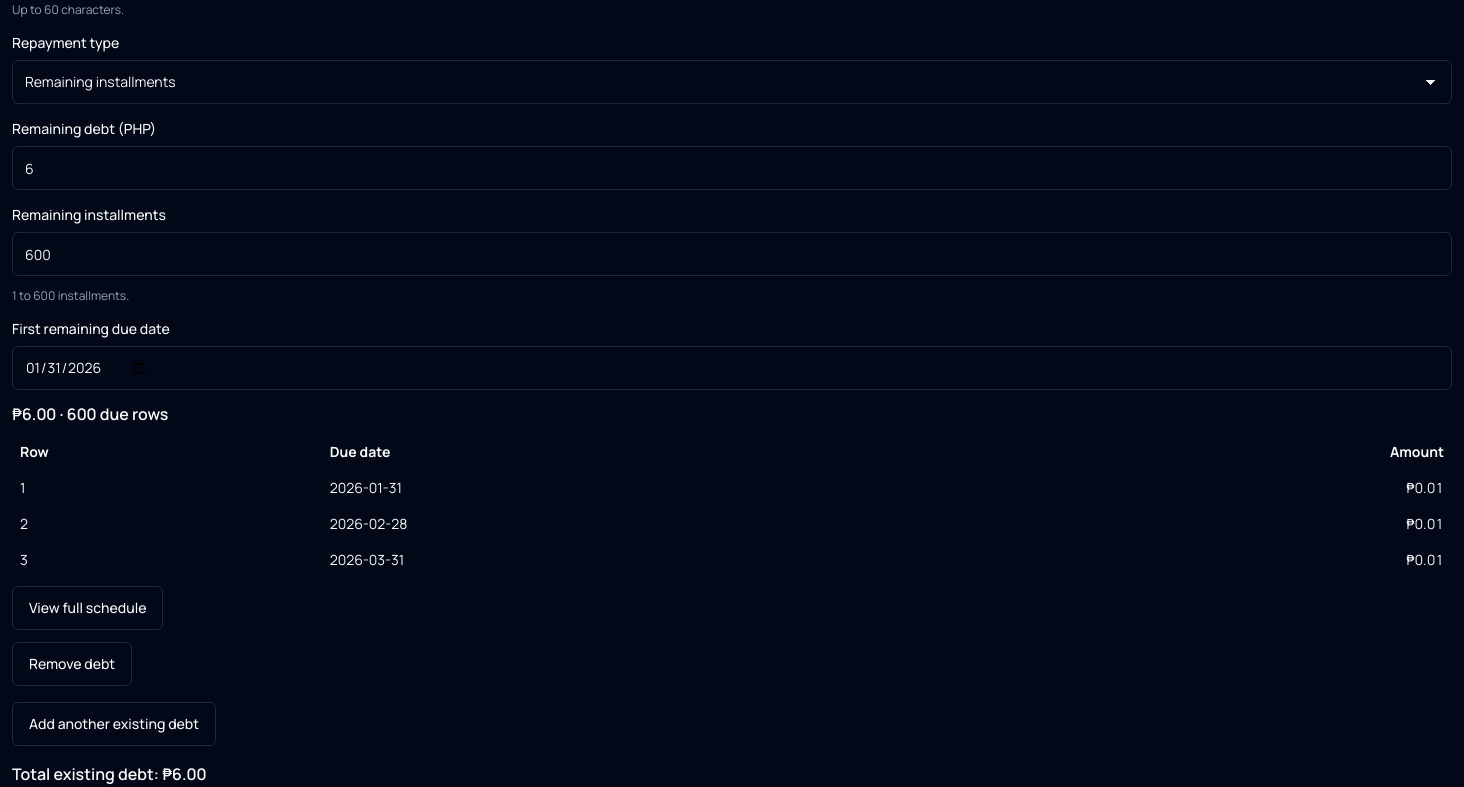
Test: shared existing debt fields › renders only three rows until full 600-row schedule is requested
(page scrolled)
Expected: the number of rows is 4, [12,434,1452,470]; [12,470,1452,506]; [12,506,1452,542]; [12,542,1452,578]
Step 1. Click the button "View full schedule" → (88, 608), box [12,586,164,630]
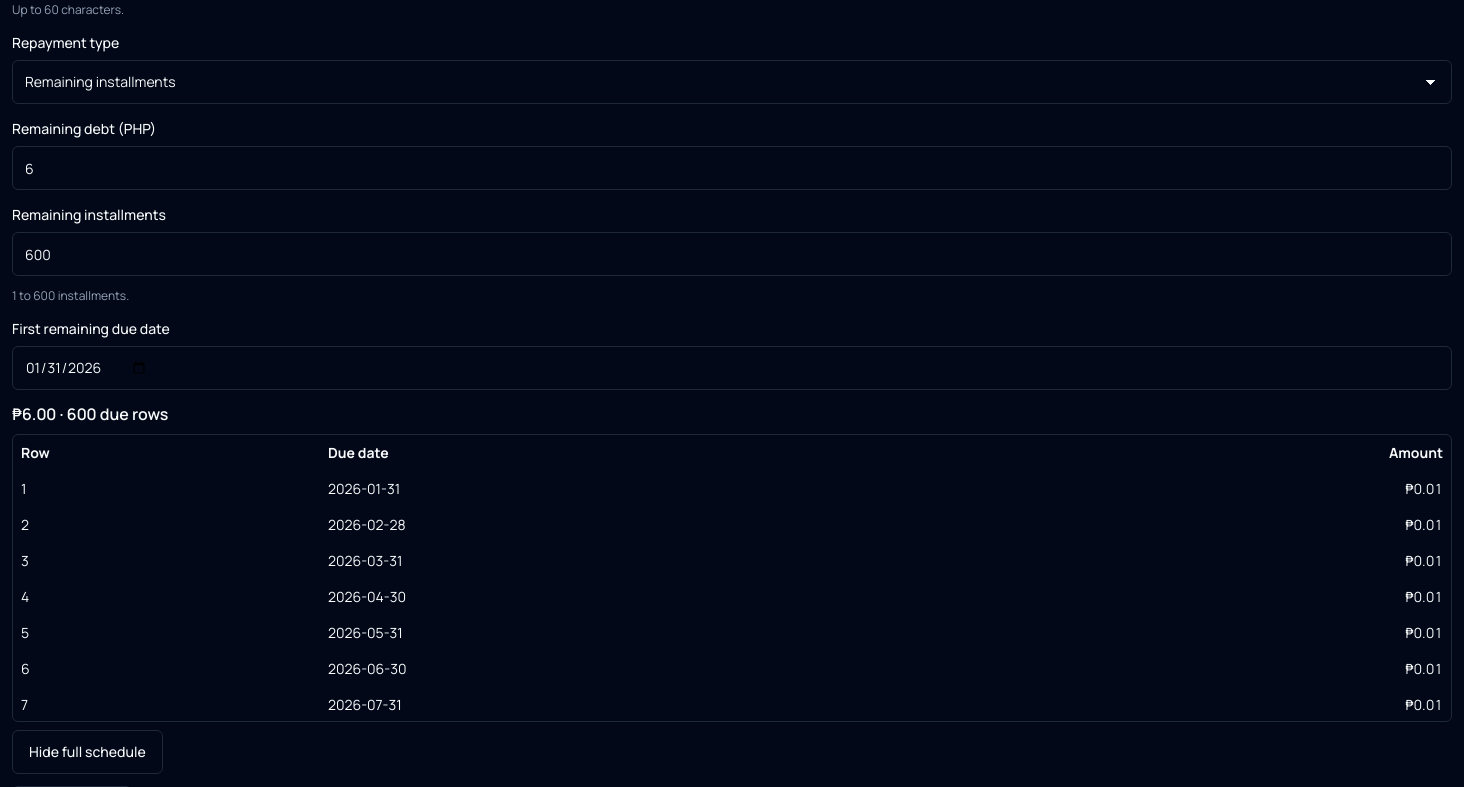
Step 2. Click the button "Hide full schedule" → (87, 752), box [12,730,163,774]
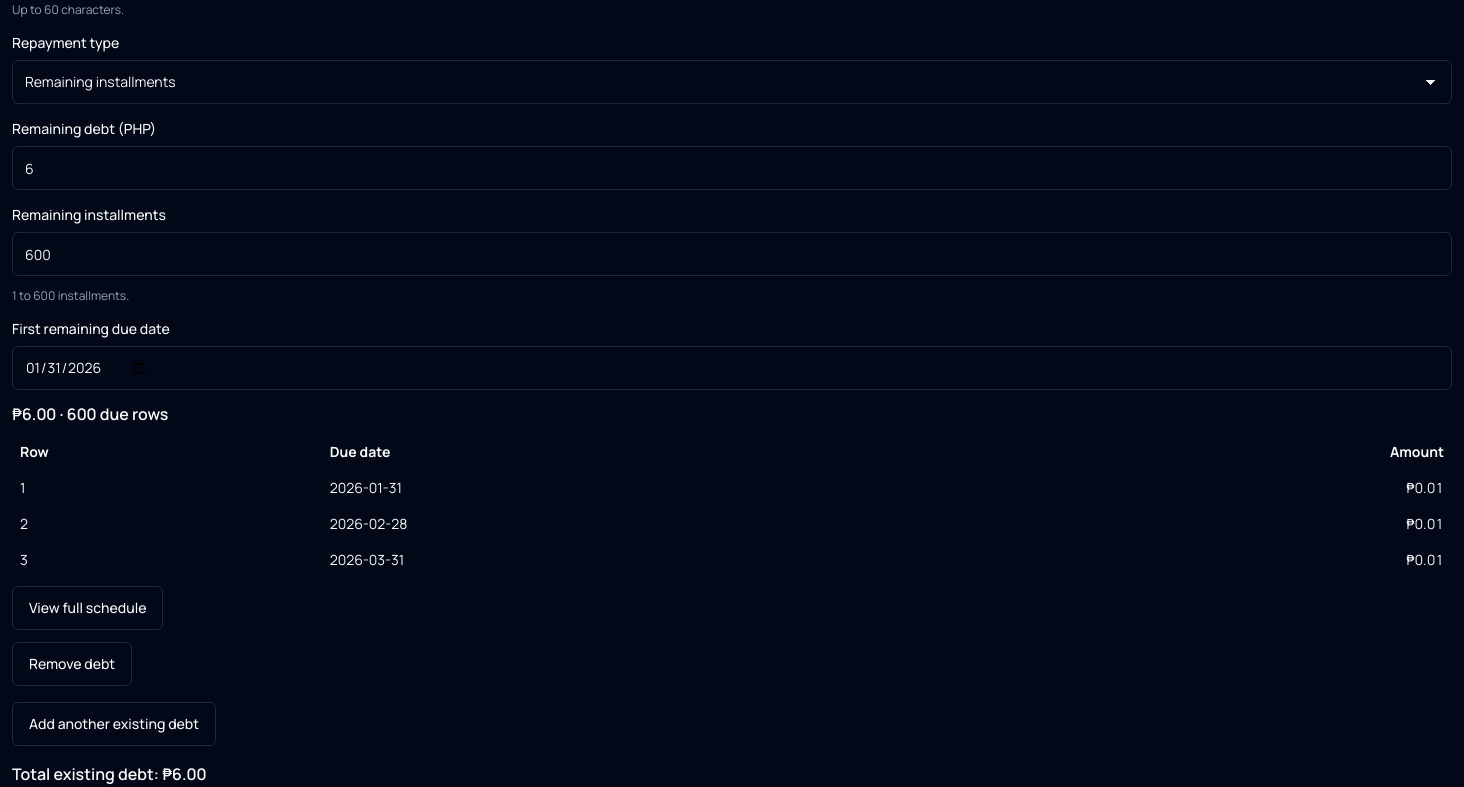
Expected: the number of rows is 4, [12,434,1452,470]; [12,470,1452,506]; [12,506,1452,542]; [12,542,1452,578]
